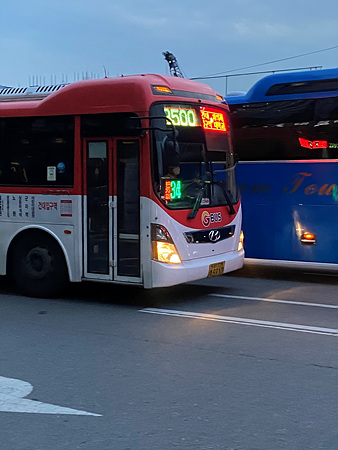entrance: (78, 120, 145, 288)
